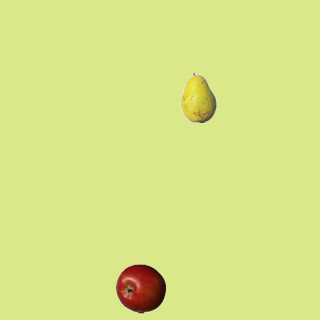Apple Braeburn: (115, 263, 165, 313)
Pear Monster: (173, 72, 223, 122)
